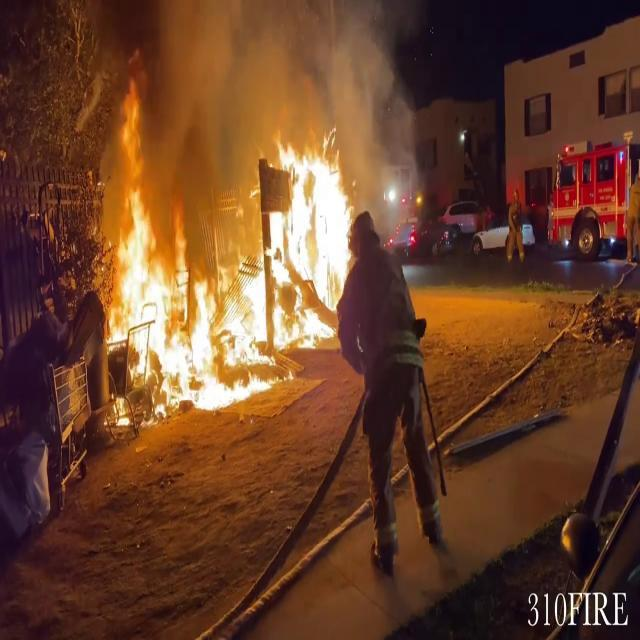Fire: (90, 103, 362, 414)
Smoke: (140, 0, 418, 199)
